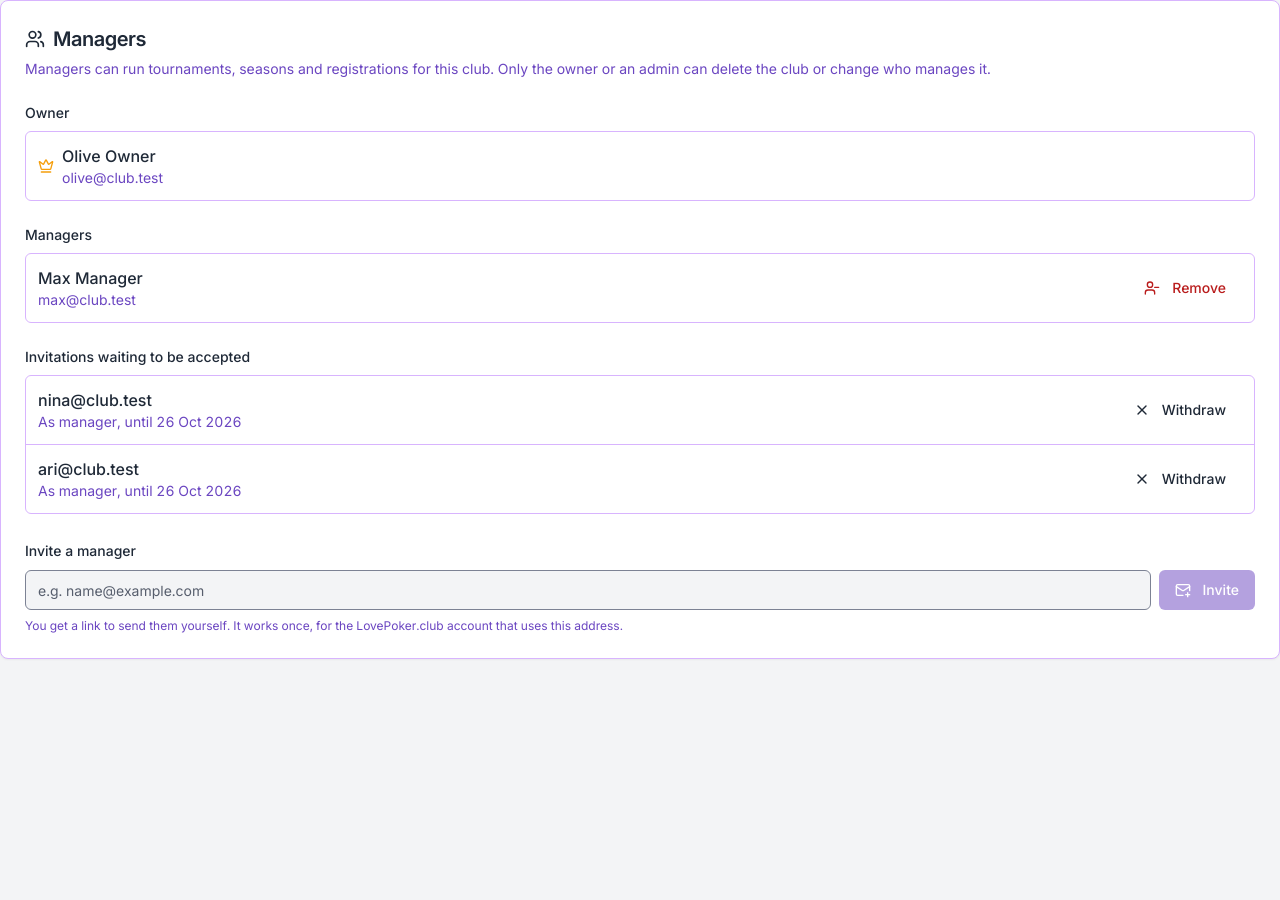
it: ClubStaffCard › keeps focus on the card when what had it goes (P3REV-MA-FOCUS-AFTER-REMOVE) › puts focus on the invitations heading, or on the card once the last invitation is withdrawn
Click the button with aria-label "Withdraw the invitation for nina@club.test". click: (1180, 410)
box: [1118,390,1242,430]
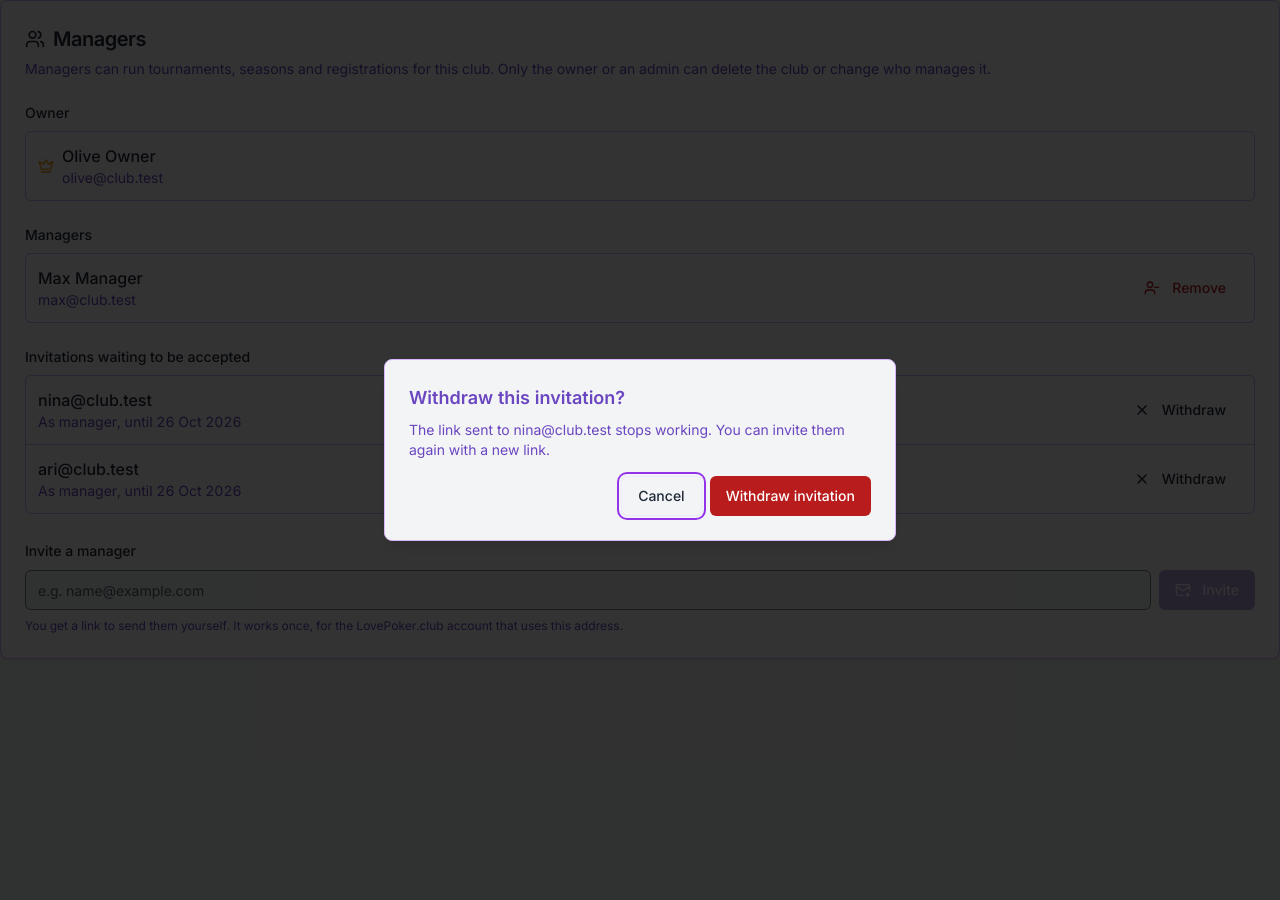
Click the button "Withdraw invitation". click: (790, 496)
box: [710,476,871,516]
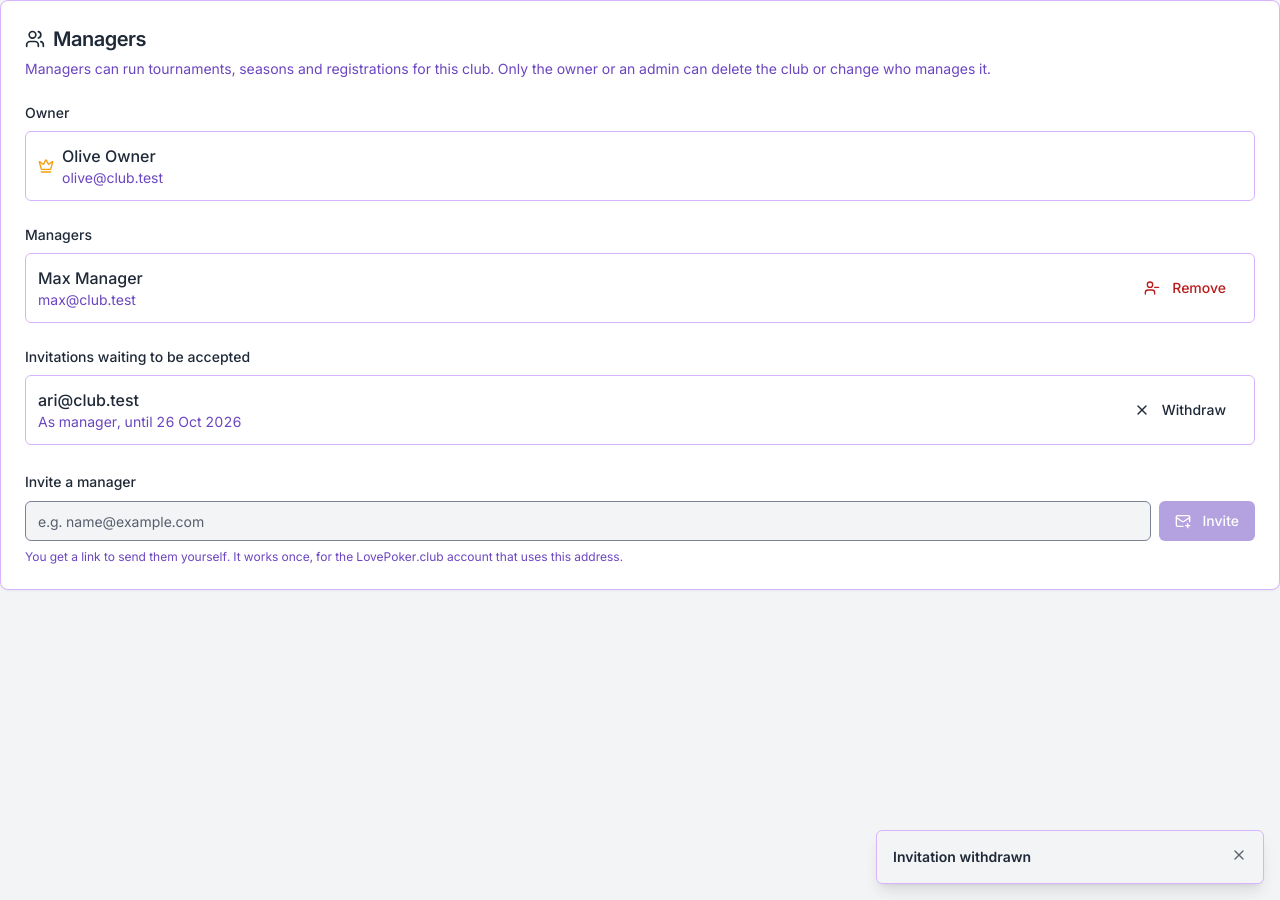
Click the button with aria-label "Withdraw the invitation for ari@club.test". click: (1180, 410)
box: [1118,390,1242,430]
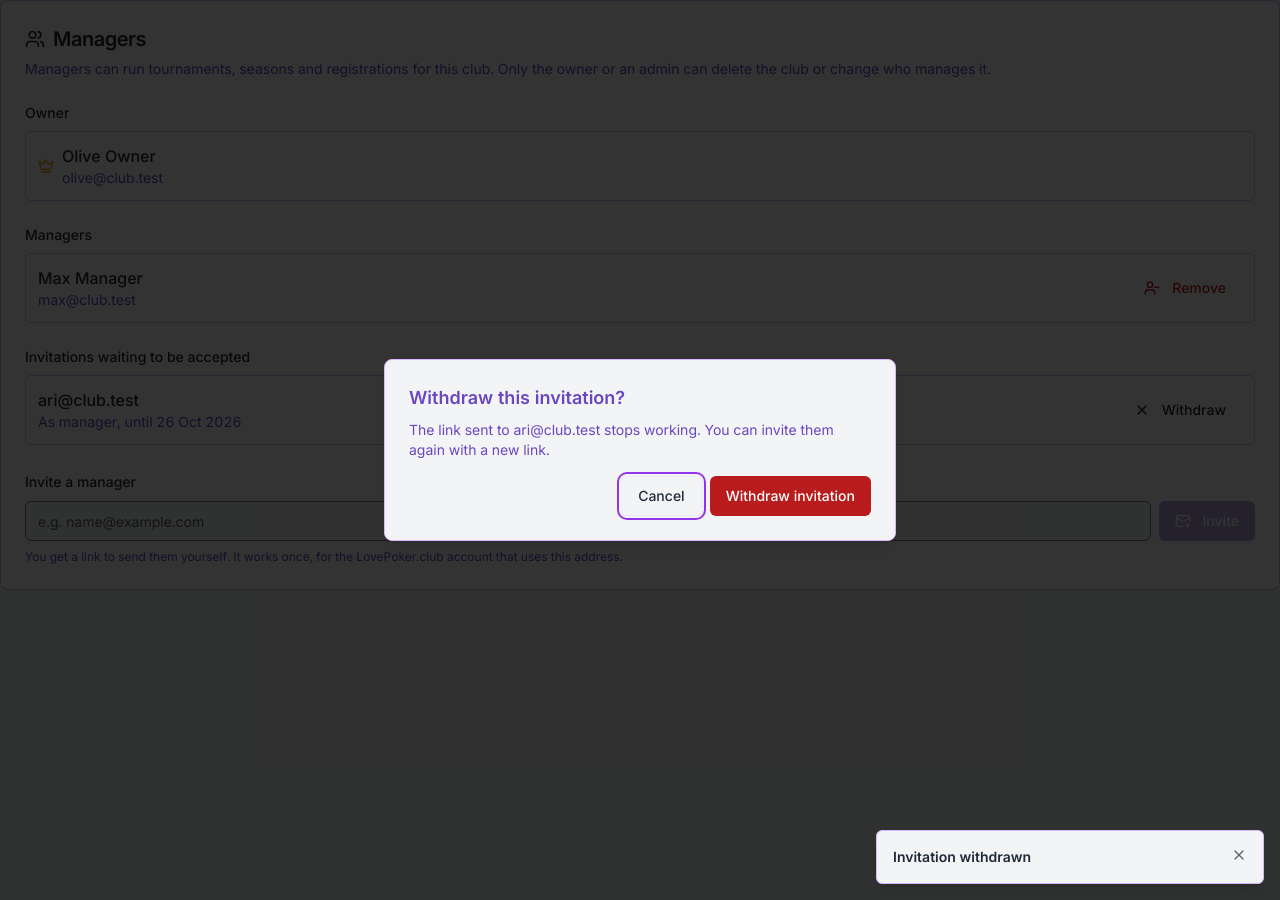
Click the button "Withdraw invitation". click: (790, 496)
box: [710,476,871,516]
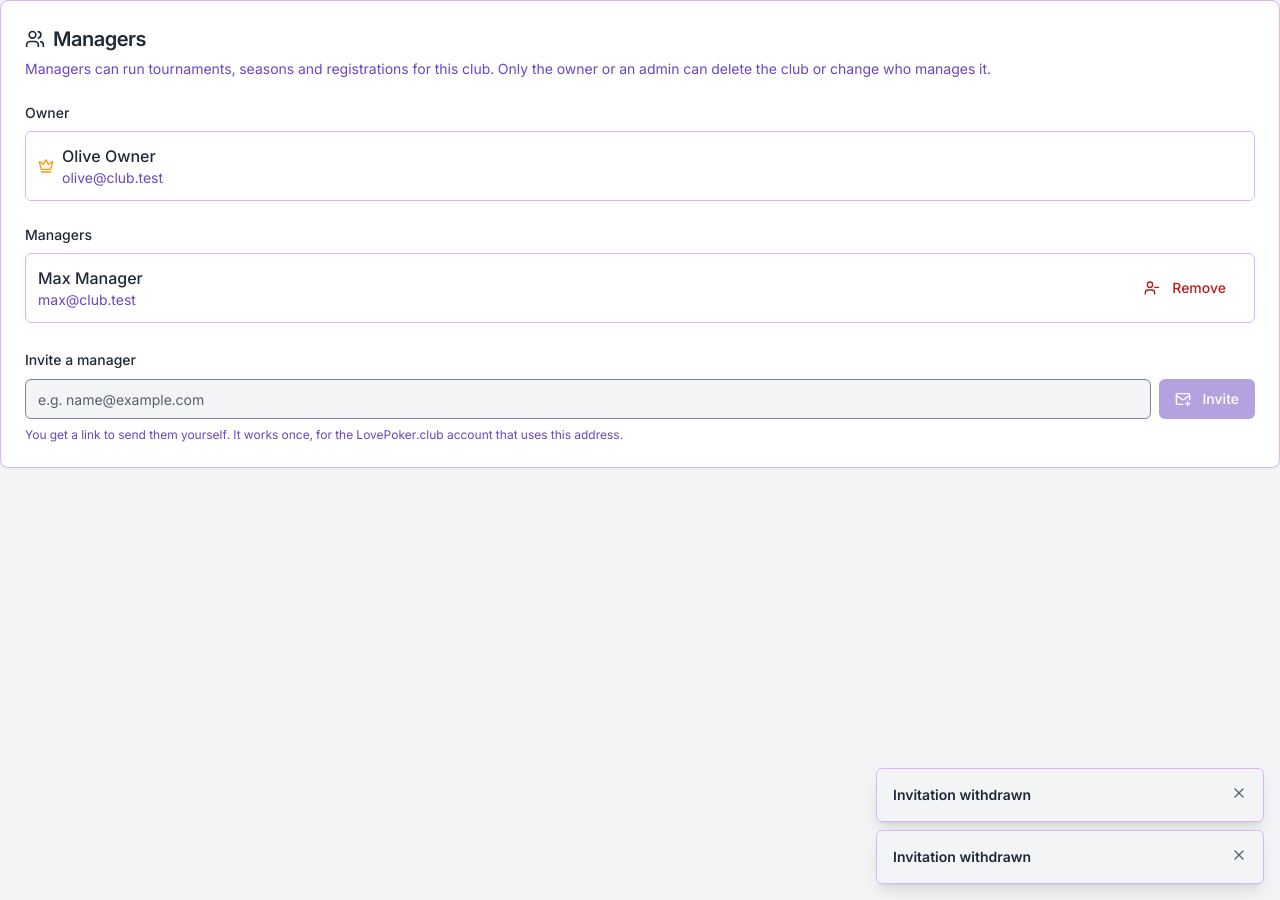
Check: the text "Invitation withdrawn" is shown 2 times, box [893,786,1031,803]; [893,848,1031,865]
Check: the dialog is gone
Check: the heading "Invitations waiting to be accepted" is gone
